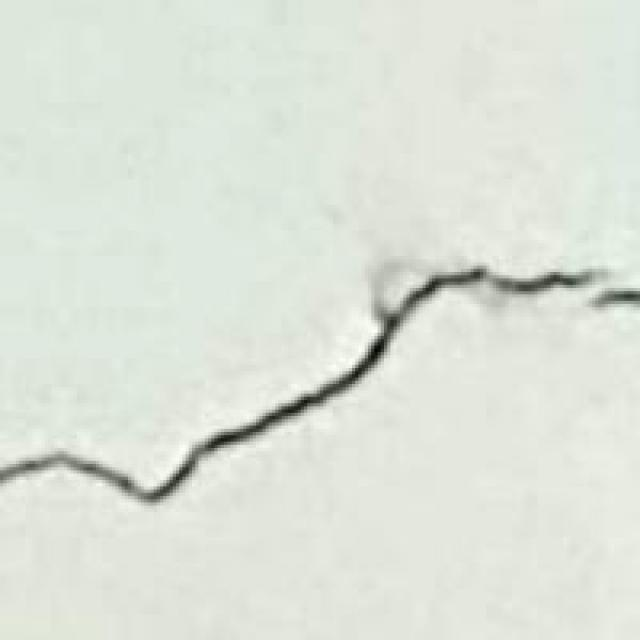crack: (0, 221, 637, 554)
